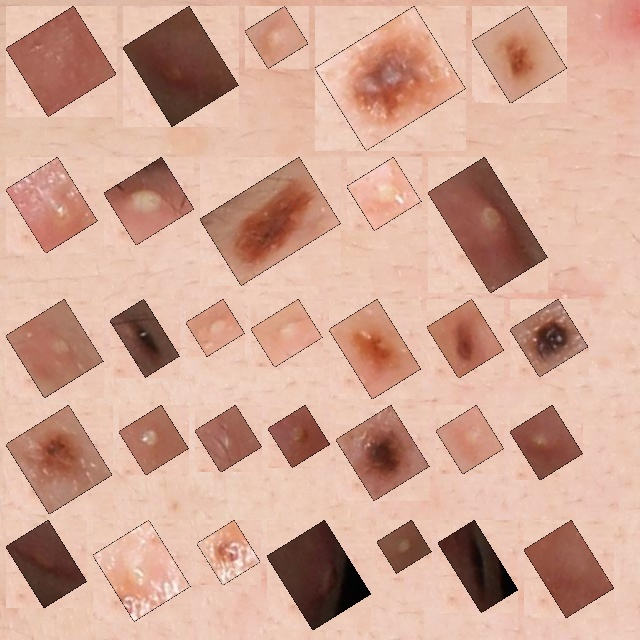hypertrophic_scar: (17, 17, 105, 105), (535, 531, 603, 606)
nevus: (326, 17, 455, 139), (211, 168, 330, 274), (17, 416, 101, 503), (483, 17, 556, 92), (340, 310, 410, 388), (347, 416, 418, 489), (449, 531, 507, 601), (521, 310, 577, 366), (438, 310, 493, 367), (121, 310, 168, 366), (208, 531, 249, 574)
pustule: (439, 168, 536, 282), (134, 17, 227, 115), (278, 531, 360, 619), (104, 531, 179, 610), (17, 310, 92, 386), (17, 168, 86, 242), (115, 168, 183, 234), (17, 531, 76, 597), (521, 416, 572, 469), (358, 168, 410, 219), (130, 416, 177, 464), (262, 310, 311, 356), (447, 416, 493, 463), (206, 416, 251, 461), (256, 17, 297, 57), (279, 416, 319, 456), (197, 310, 233, 345), (388, 531, 420, 562)
